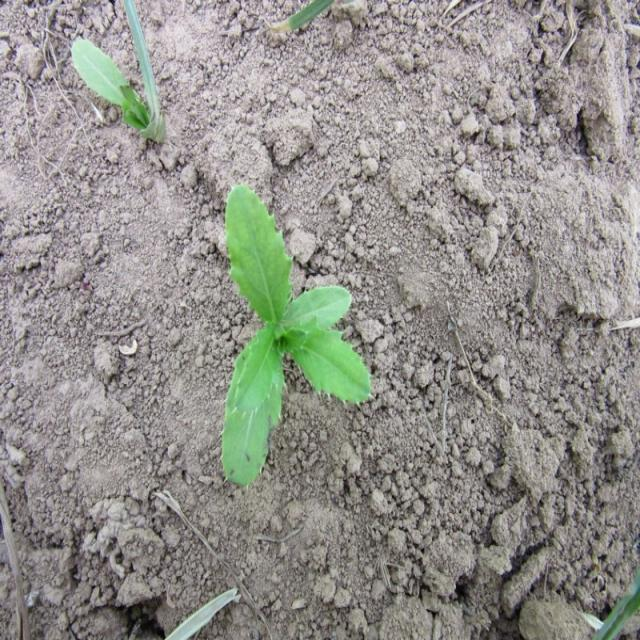field_thistle: (213, 179, 397, 509)
